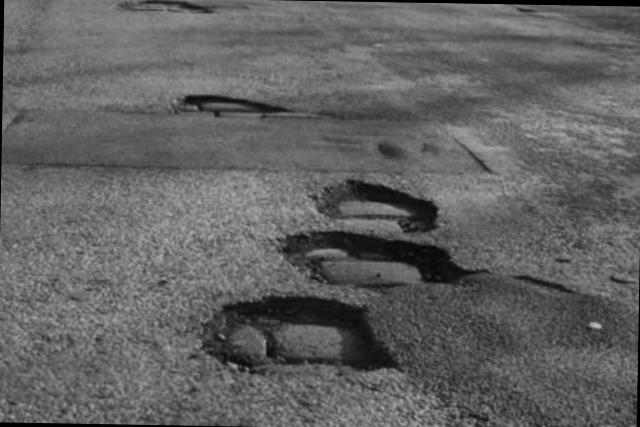Pothole: (188, 292, 402, 382), (252, 228, 490, 288), (290, 178, 444, 222), (163, 81, 281, 122), (116, 0, 215, 24)
